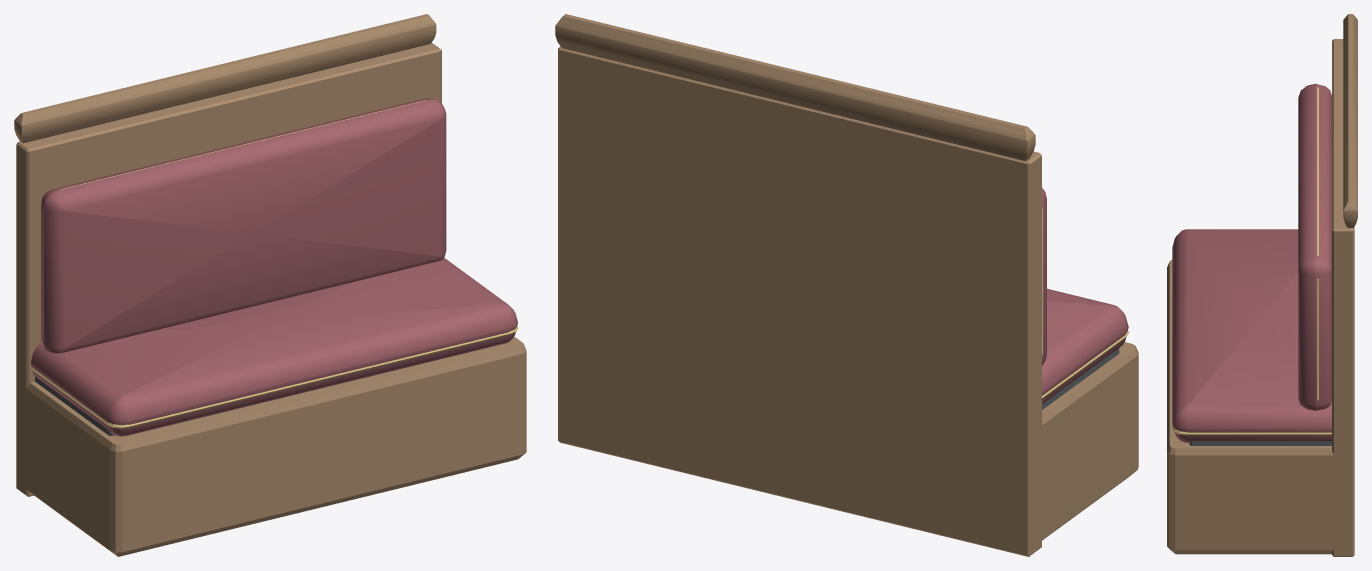
The model's file is bar-pub-and-brewery-taproom-banquette-run-1400-29e66fcb__18377.glb.
The picture shows the model from 3 angles, left to right: view 1: azimuth 30°, elevation 25°; view 2: azimuth 150°, elevation 25°; view 3: azimuth 270°, elevation 25°; orthographic projection. The views are drawn at different scales.
Visible parts, largest first — view 1: banquette-run-1400; view 2: banquette-run-1400; view 3: banquette-run-1400.
Part boxes in pixels (x1=…): banquette-run-1400: x1=14, y1=14, x2=526, y2=556; banquette-run-1400: x1=555, y1=14, x2=1138, y2=556; banquette-run-1400: x1=1167, y1=14, x2=1357, y2=556.
Size of the model in its own units: 1.4 by 1.21 by 0.5905.
